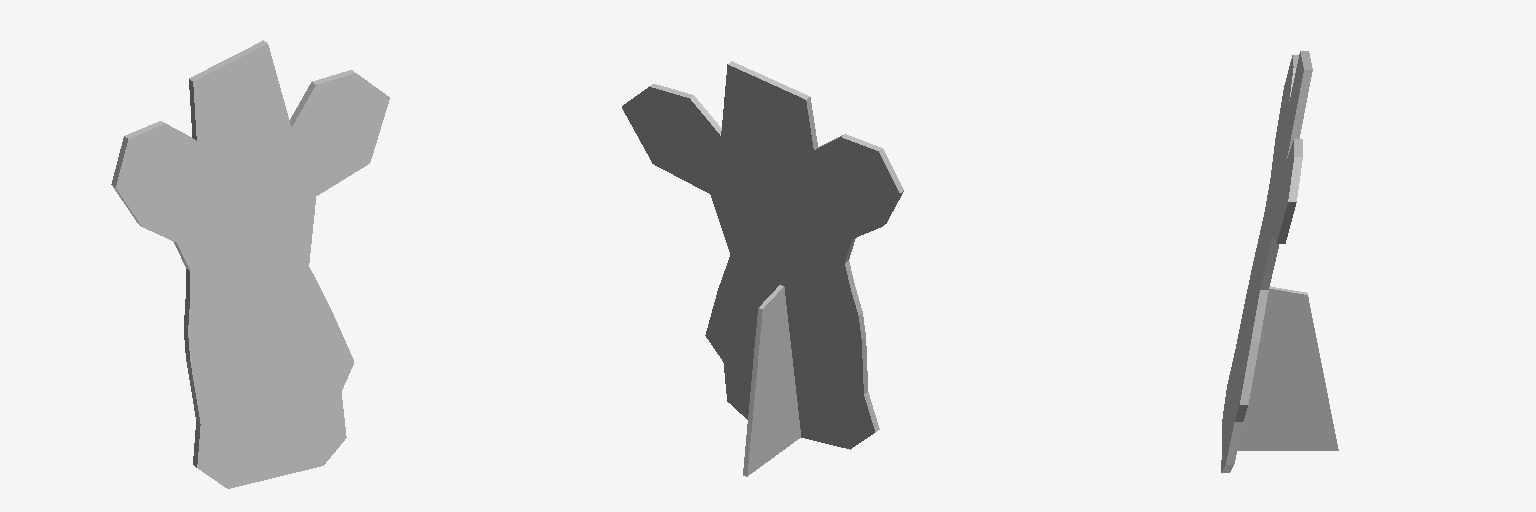
The model's file is shopVendorOne.obj.
3 views of the same model, side by side, from view 1: azimuth 30°, elevation 25°; view 2: azimuth 150°, elevation 25°; view 3: azimuth 270°, elevation 25° (orthographic).
Visible parts, largest first — view 1: Plane.004; view 2: Plane.004; view 3: Plane.004.
Boxes of the visible parts, x1=… form: Plane.004: x1=111, y1=40, x2=389, y2=488; Plane.004: x1=622, y1=61, x2=903, y2=476; Plane.004: x1=1221, y1=51, x2=1338, y2=472.
Bounding box in the file's own units: 0.8654 × 1.18 × 0.317.